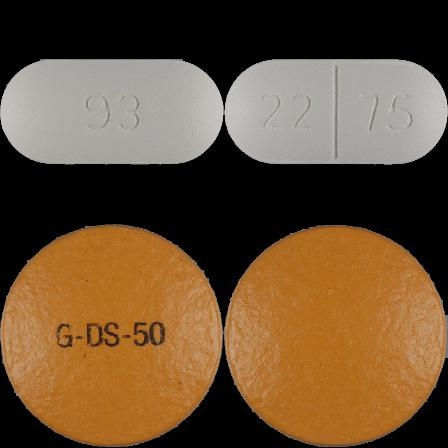42549-570: (0, 0, 224, 224)
